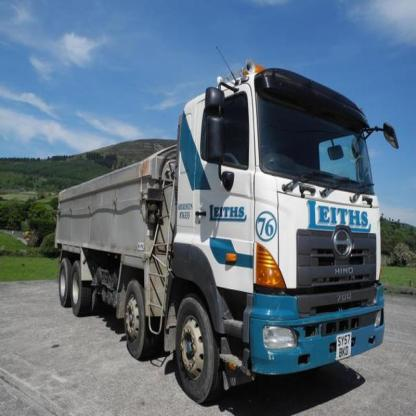dump_truck: (44, 53, 393, 406)
